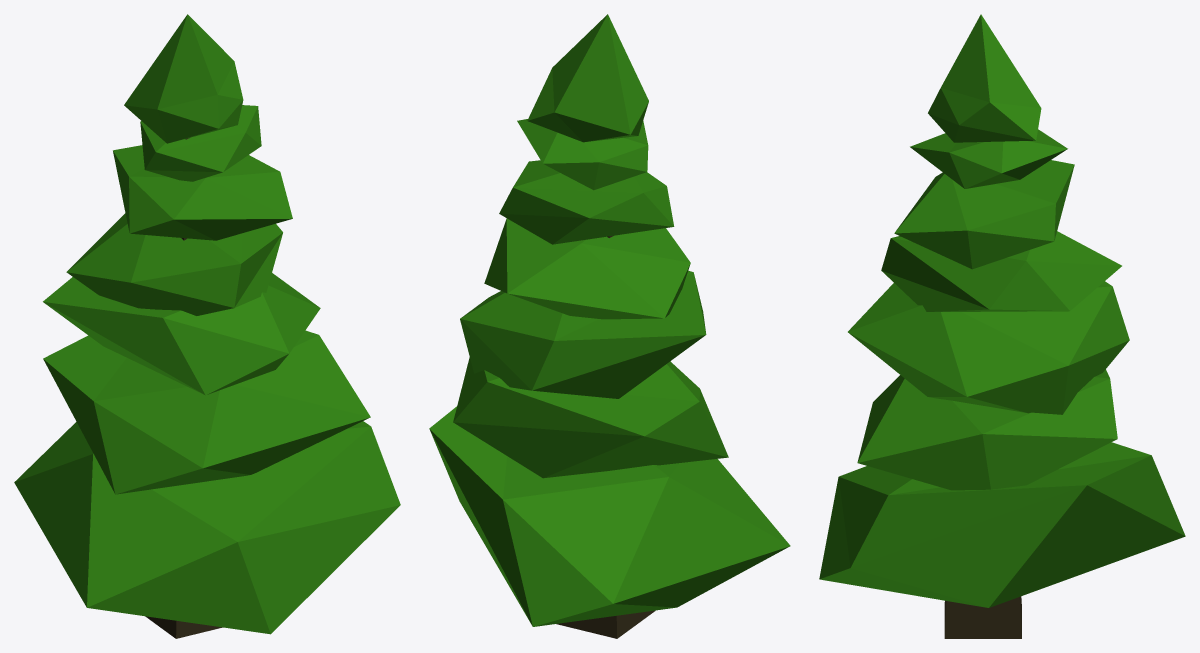
Rendered from tree4.fbx.
3 renders of one model, left to right at view 1: azimuth 30°, elevation 25°; view 2: azimuth 150°, elevation 25°; view 3: azimuth 270°, elevation 25°, orthographic.
Visible parts, largest first — view 1: Icosphere.005, Icosphere.006, Icosphere.007, Icosphere.008, Icosphere.010, Icosphere.009, Icosphere.011, Cube.007; view 2: Icosphere.005, Icosphere.006, Icosphere.007, Icosphere.008, Icosphere.010, Icosphere.009, Icosphere.011, Cube.007; view 3: Icosphere.005, Icosphere.007, Icosphere.006, Icosphere.008, Icosphere.010, Icosphere.009, Icosphere.011, Cube.007.
Part boxes in pixels (x1,y1,x2,y2): Icosphere.005: [14, 421, 400, 634]; Icosphere.006: [43, 330, 370, 494]; Icosphere.007: [43, 273, 320, 395]; Icosphere.008: [66, 213, 282, 315]; Icosphere.010: [113, 145, 292, 240]; Icosphere.009: [124, 14, 243, 143]; Icosphere.011: [140, 105, 261, 181]; Cube.007: [145, 138, 222, 638]; Icosphere.005: [429, 406, 790, 626]; Icosphere.006: [453, 357, 728, 478]; Icosphere.007: [460, 270, 706, 398]; Icosphere.008: [484, 218, 690, 319]; Icosphere.010: [499, 160, 674, 244]; Icosphere.009: [527, 14, 648, 142]; Icosphere.011: [517, 119, 648, 190]; Cube.007: [556, 235, 655, 638]; Icosphere.005: [819, 442, 1185, 607]; Icosphere.007: [848, 281, 1129, 414]; Icosphere.006: [857, 369, 1117, 490]; Icosphere.008: [881, 231, 1121, 311]; Icosphere.010: [894, 160, 1074, 269]; Icosphere.009: [928, 14, 1041, 142]; Icosphere.011: [910, 129, 1067, 188]; Cube.007: [944, 596, 1021, 638].
Bounding box in the file's own units: 295 × 587 × 321.
